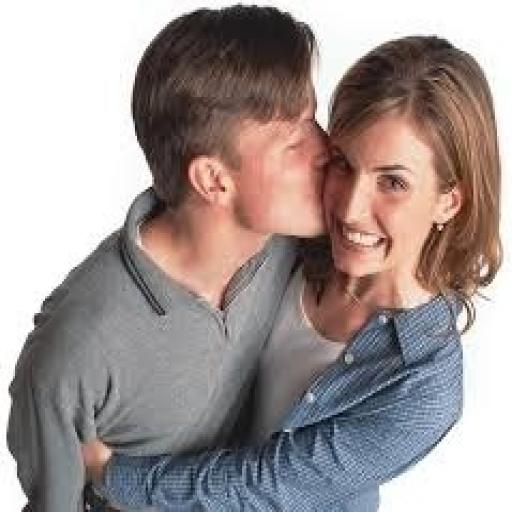hugging: (2, 0, 506, 510)
